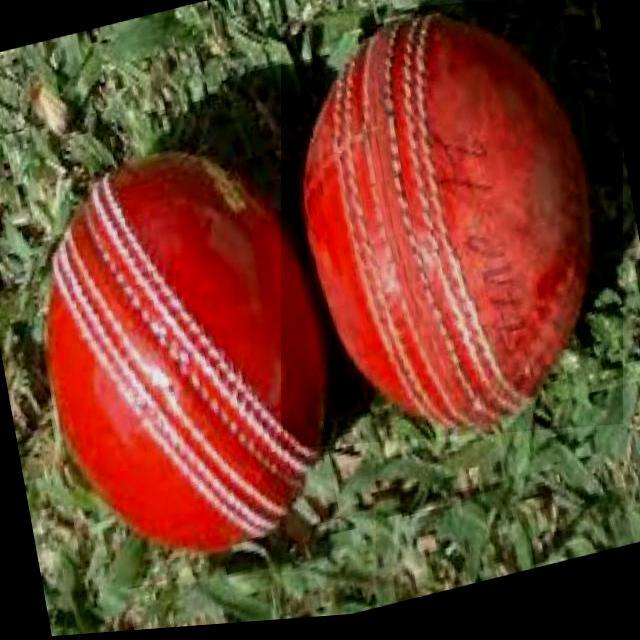Red_Ball: (298, 23, 608, 420), (35, 161, 335, 571)
